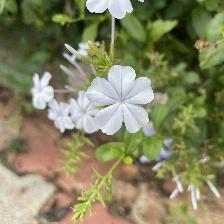chitrak: (87, 62, 159, 137), (71, 93, 99, 137), (33, 72, 54, 112), (47, 102, 71, 133)
